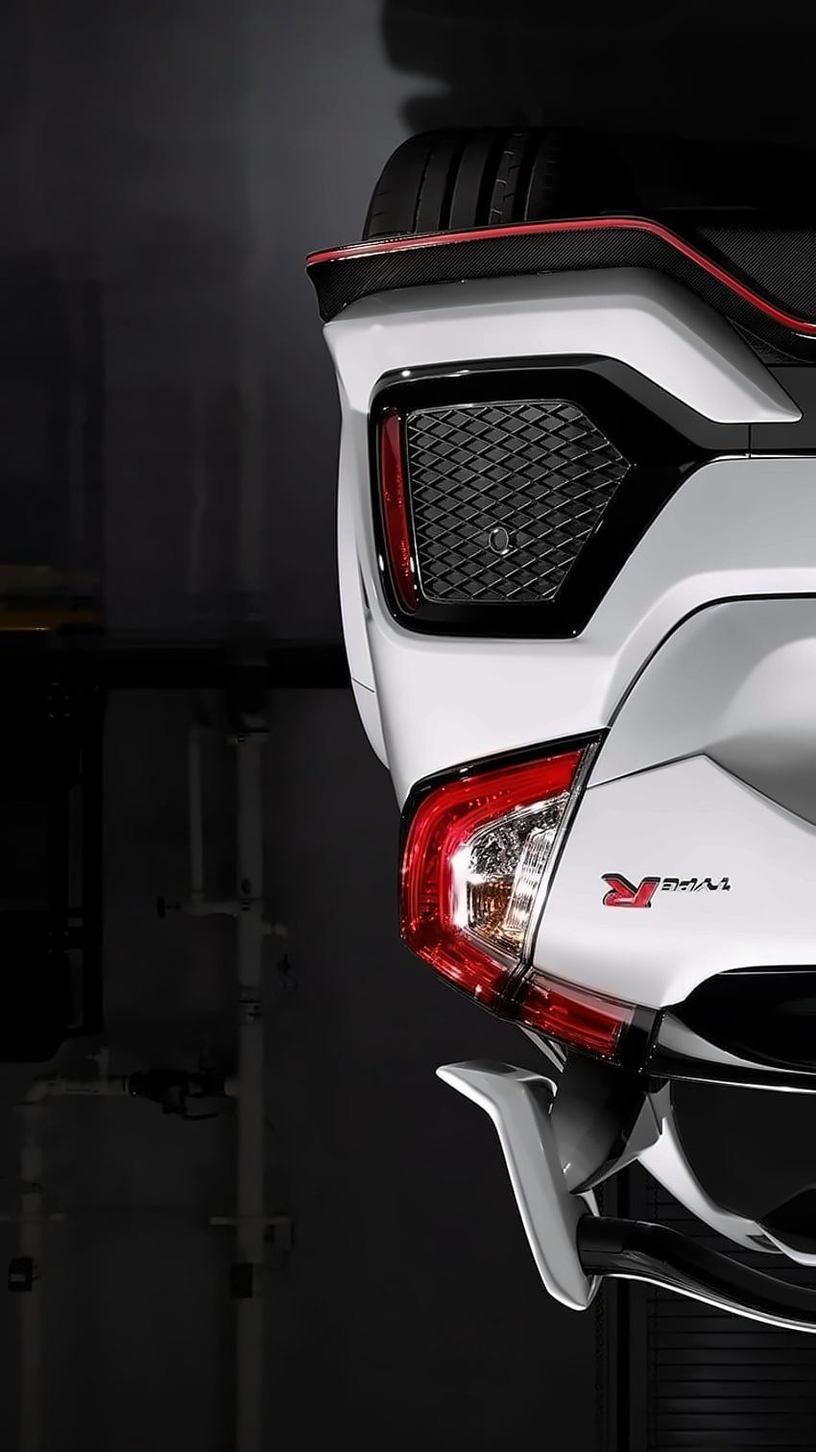Car boot: (495, 576, 816, 1107)
Rear bumper: (257, 212, 816, 767)
Rear light - -R-: (365, 706, 816, 1100)
